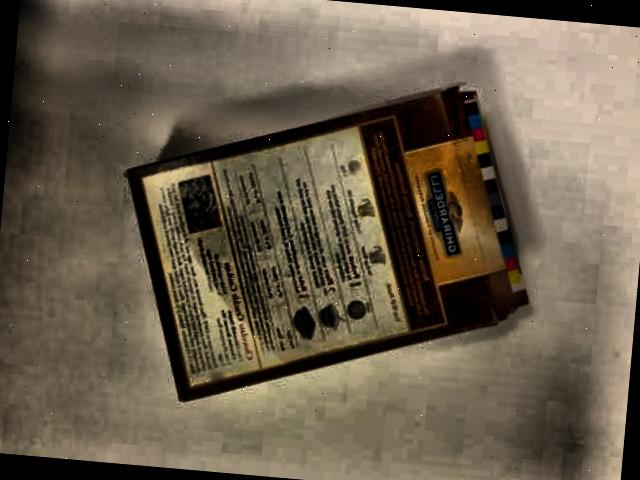Paper: (108, 50, 550, 434)
